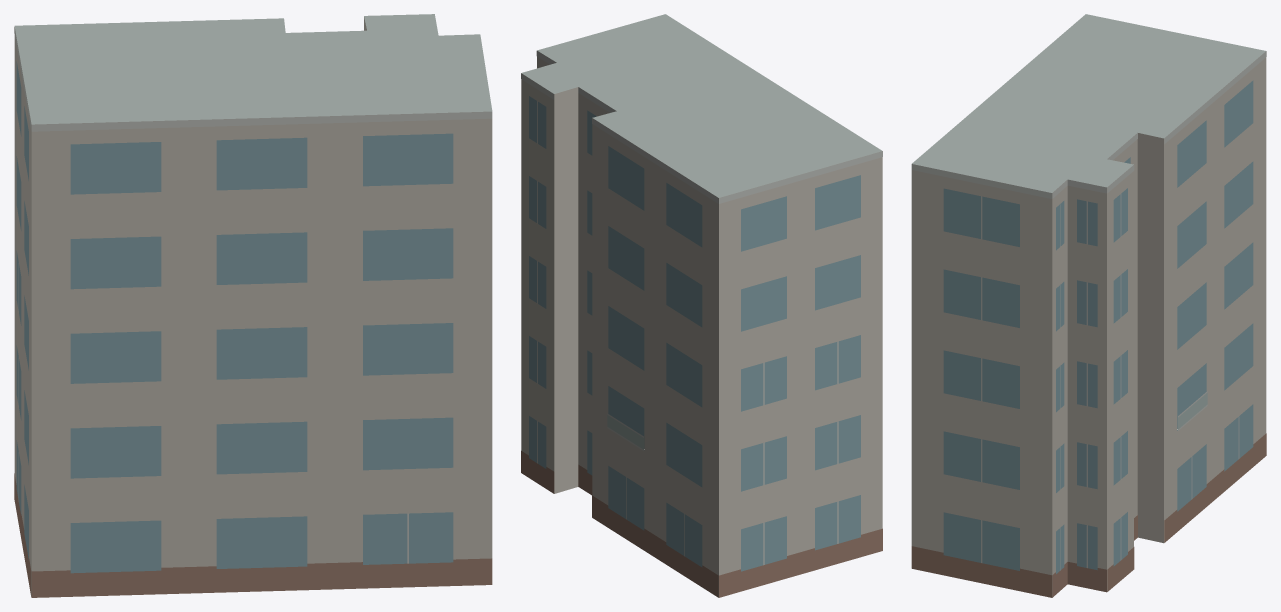
File: survey-upis-32885205.glb
The picture shows the model from 3 angles, left to right: view 1: azimuth 30°, elevation 25°; view 2: azimuth 150°, elevation 25°; view 3: azimuth 270°, elevation 25°; orthographic projection. The views are drawn at different scales.
Parts seen in each view (by area): view 1: survey-upis-32885205.tmp; view 2: survey-upis-32885205.tmp; view 3: survey-upis-32885205.tmp.
Boxes of the visible parts, x1,y1,x2,y2 form: survey-upis-32885205.tmp: (14, 14, 492, 597); survey-upis-32885205.tmp: (521, 14, 882, 597); survey-upis-32885205.tmp: (911, 14, 1266, 597).
Size of the model in its own units: 15.38 by 16.2 by 12.88.
